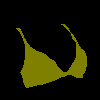reggiseno: (16, 24, 87, 88)
